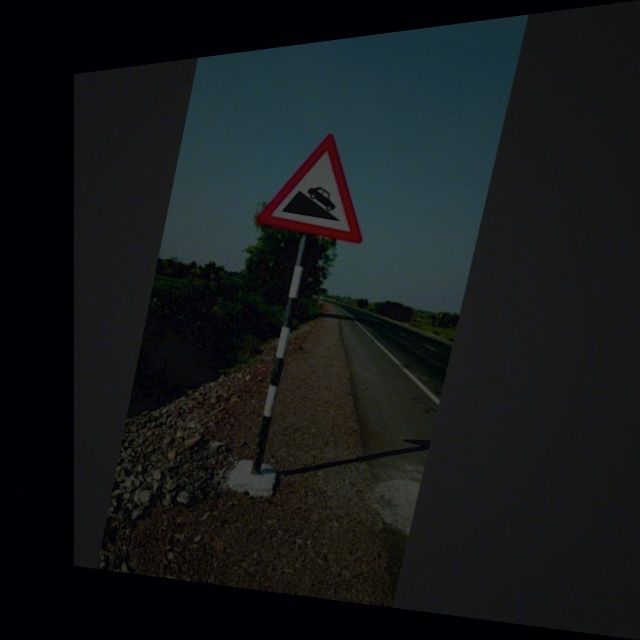Steep_Descent: (257, 117, 377, 245)
